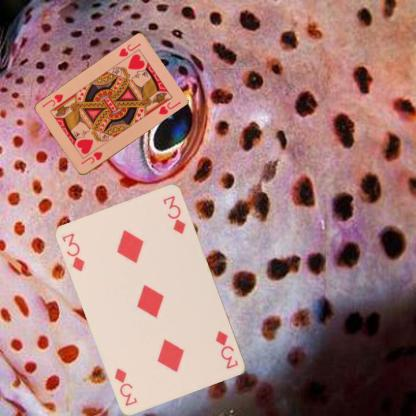3d: (60, 230, 87, 274), (212, 328, 240, 370)
Jh: (116, 40, 142, 58), (78, 149, 104, 166)
